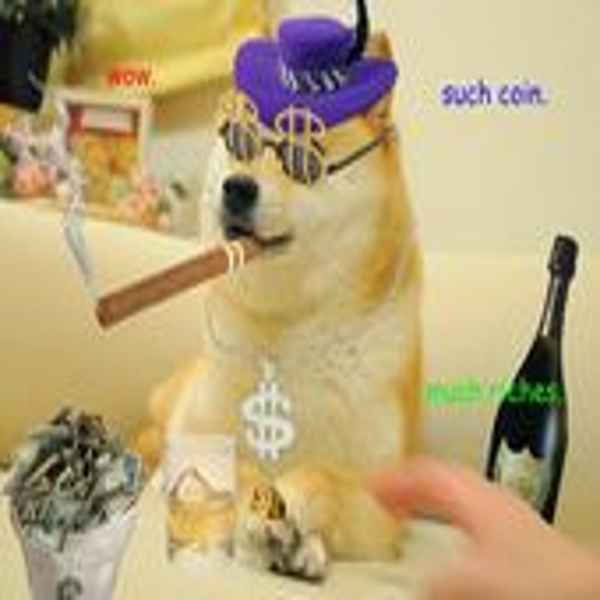doge: (192, 79, 401, 304)
